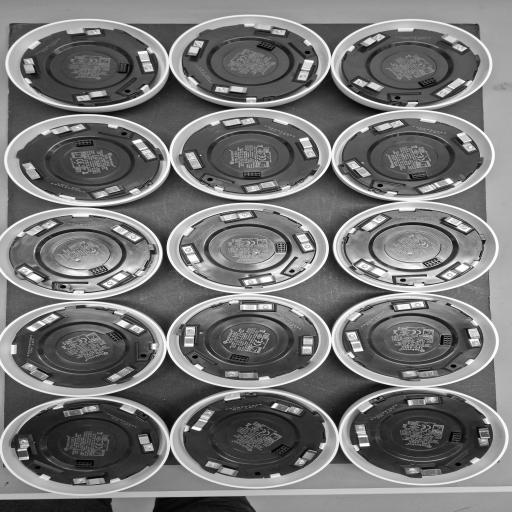konnektor: (73, 459, 99, 470), (86, 264, 108, 276), (240, 170, 269, 179), (227, 354, 249, 365), (272, 444, 292, 456), (104, 331, 124, 343), (403, 171, 431, 179), (449, 430, 464, 444), (439, 334, 453, 348), (274, 240, 287, 254), (116, 62, 130, 75), (256, 42, 277, 50), (420, 77, 438, 86), (72, 140, 98, 146), (424, 259, 442, 267)
yaysiz: (351, 257, 391, 279), (434, 32, 470, 54), (414, 177, 458, 195), (187, 408, 217, 434), (24, 313, 61, 334), (434, 262, 477, 280), (241, 270, 283, 288), (178, 241, 206, 267), (100, 270, 138, 289), (344, 157, 374, 181), (203, 460, 243, 478), (108, 224, 145, 243), (293, 136, 321, 161), (19, 362, 54, 382), (450, 130, 479, 154), (440, 215, 476, 234), (289, 446, 320, 468), (344, 330, 370, 356), (23, 220, 58, 239), (132, 137, 158, 162), (113, 317, 149, 335), (351, 75, 385, 94), (354, 423, 377, 451), (17, 266, 49, 286), (359, 214, 391, 234), (240, 179, 282, 194), (268, 399, 305, 416), (294, 58, 318, 84), (45, 123, 86, 138), (214, 209, 255, 224), (437, 78, 466, 99), (368, 119, 408, 134), (289, 231, 315, 254), (398, 394, 444, 407), (247, 22, 289, 36), (60, 404, 102, 418), (134, 430, 157, 455), (400, 465, 447, 477), (90, 184, 125, 200), (359, 32, 390, 50), (107, 365, 136, 384), (462, 324, 484, 349), (211, 82, 250, 96), (388, 299, 427, 313), (398, 367, 443, 379), (14, 437, 34, 464), (180, 324, 202, 348), (184, 39, 211, 58), (232, 302, 278, 313), (473, 424, 494, 448), (137, 49, 156, 75), (219, 116, 257, 129), (222, 368, 263, 380), (73, 90, 113, 102), (298, 332, 318, 356), (62, 26, 105, 37), (73, 474, 112, 486), (22, 162, 43, 182), (184, 150, 204, 170), (22, 57, 36, 79)
